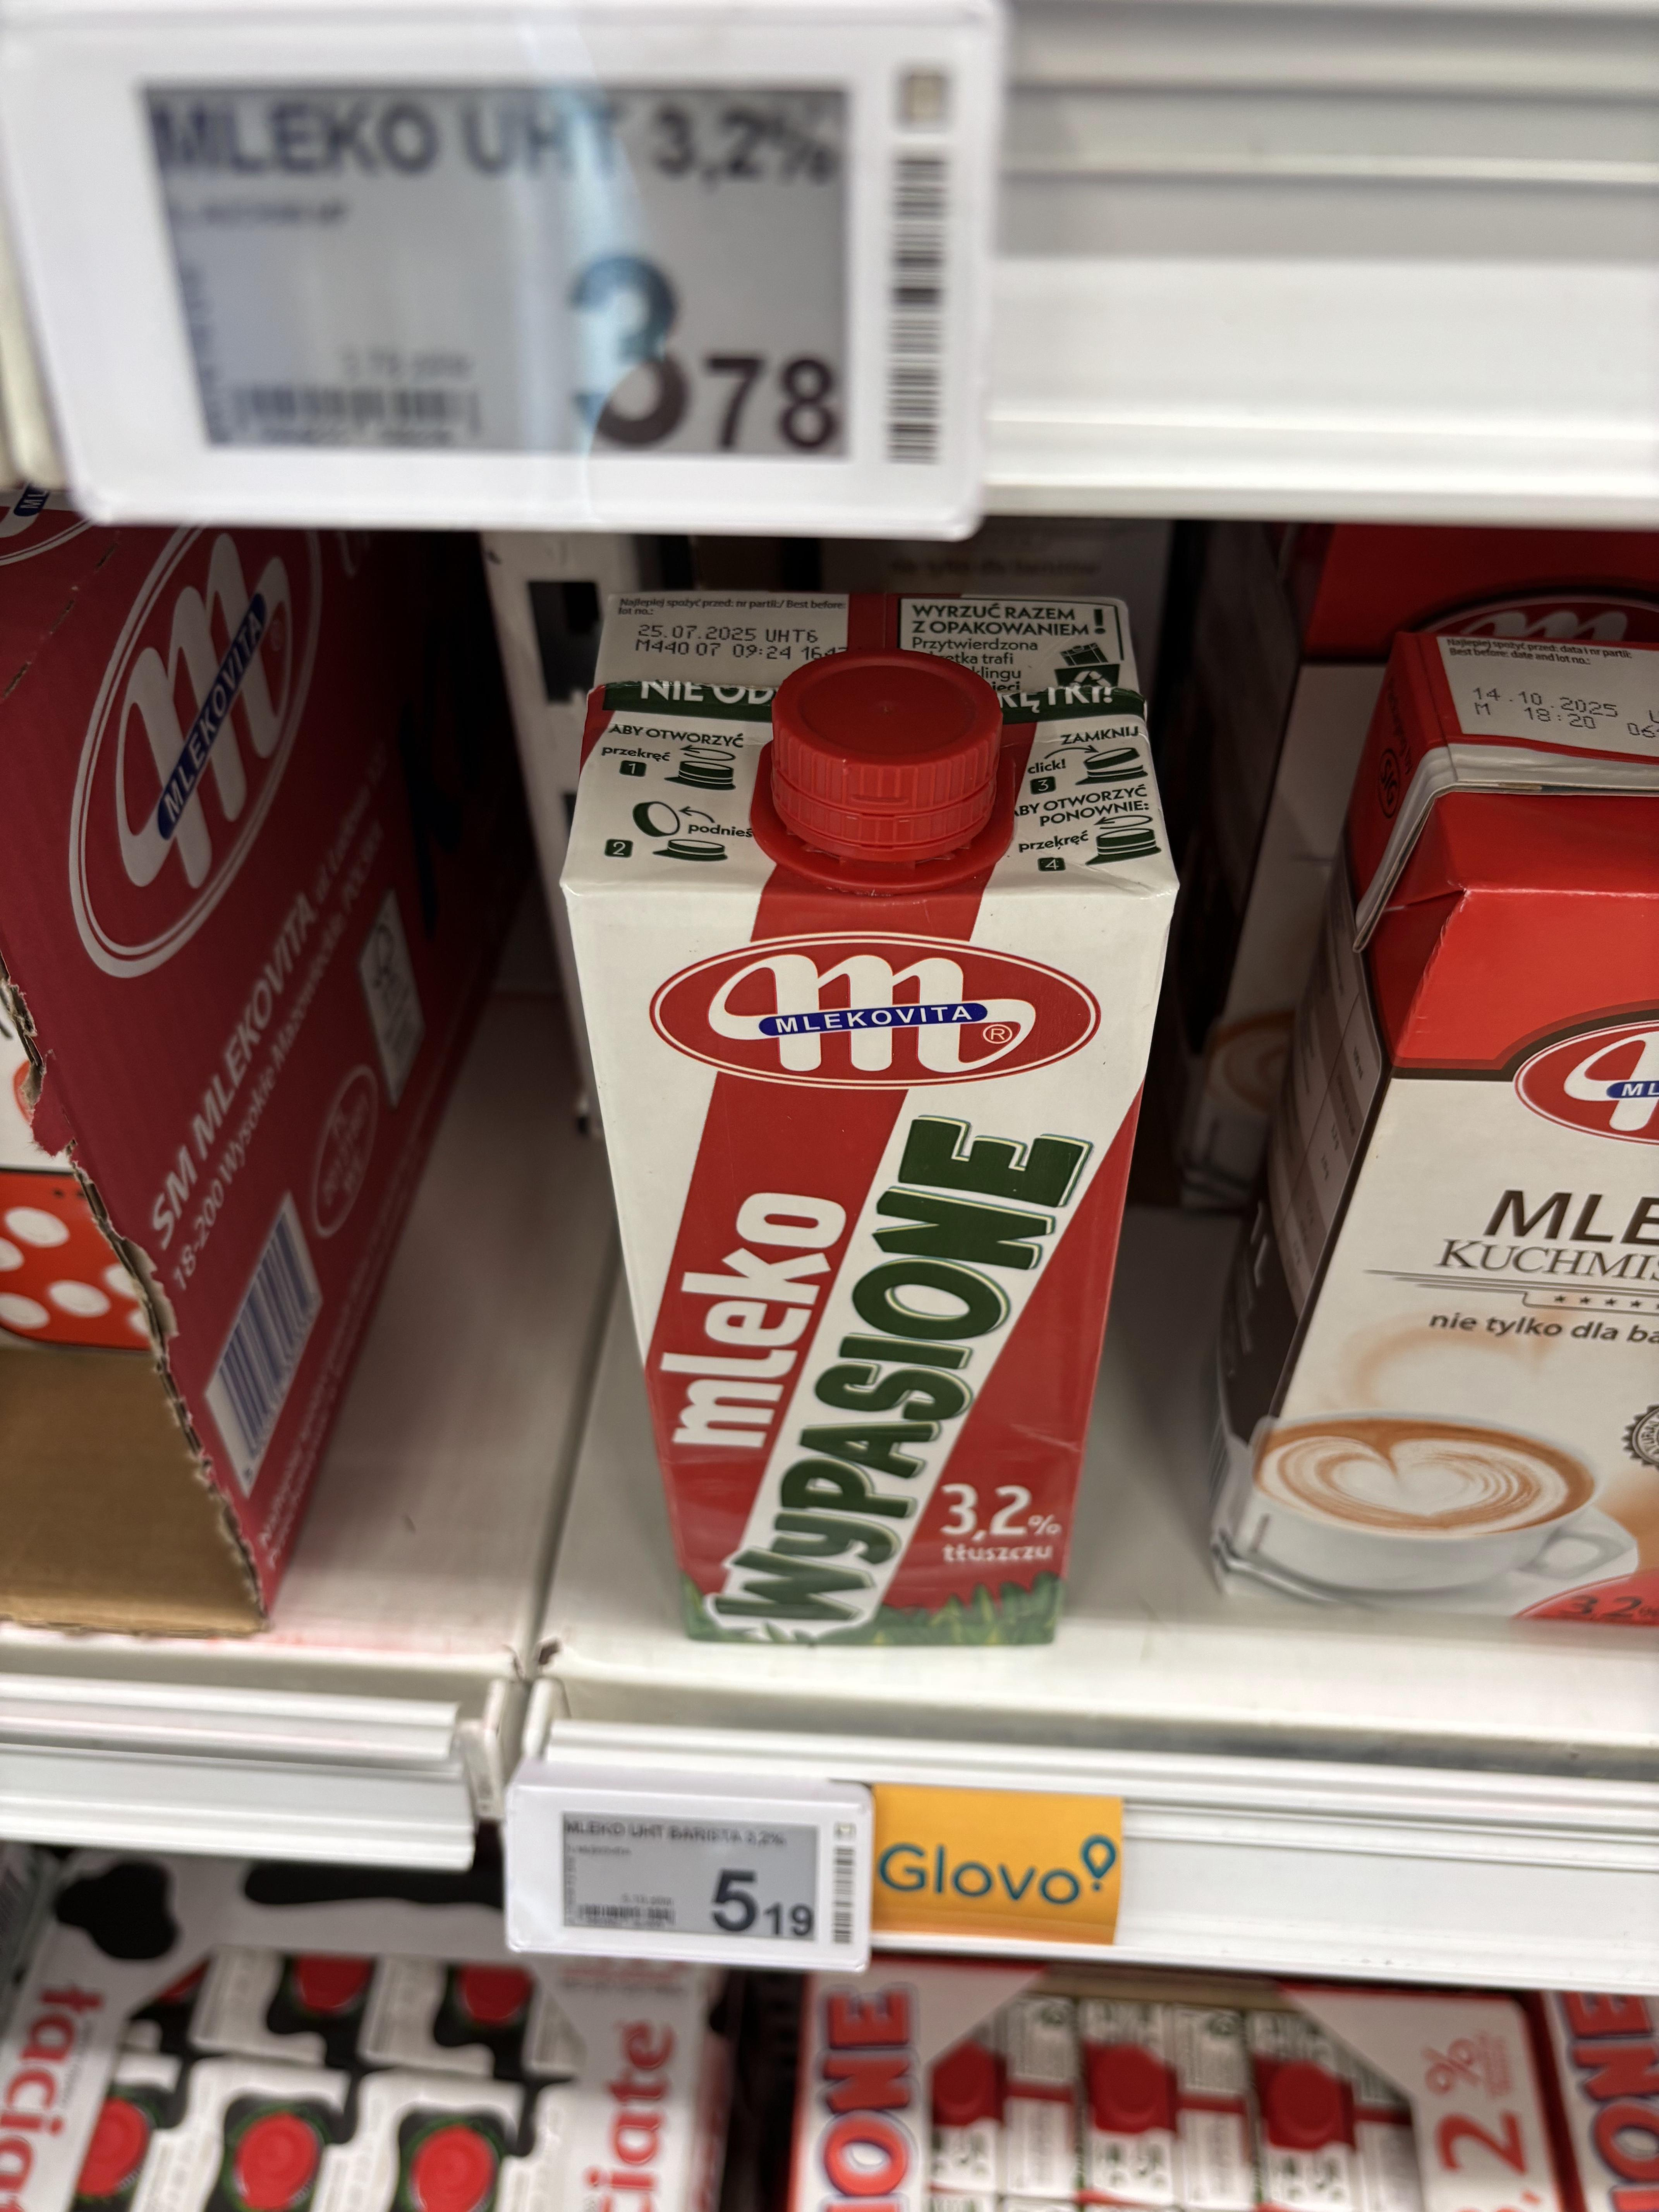Milk: (579, 585, 1168, 1670)
